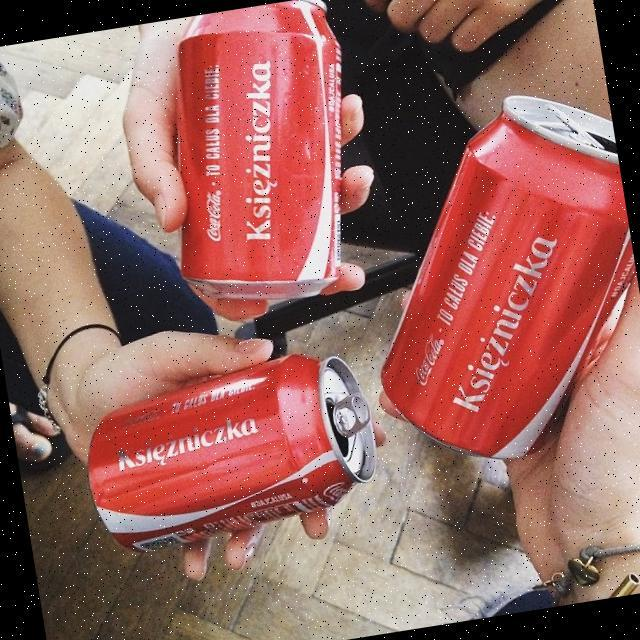coca-cola: (338, 78, 640, 481), (139, 0, 381, 321), (71, 342, 390, 563)
